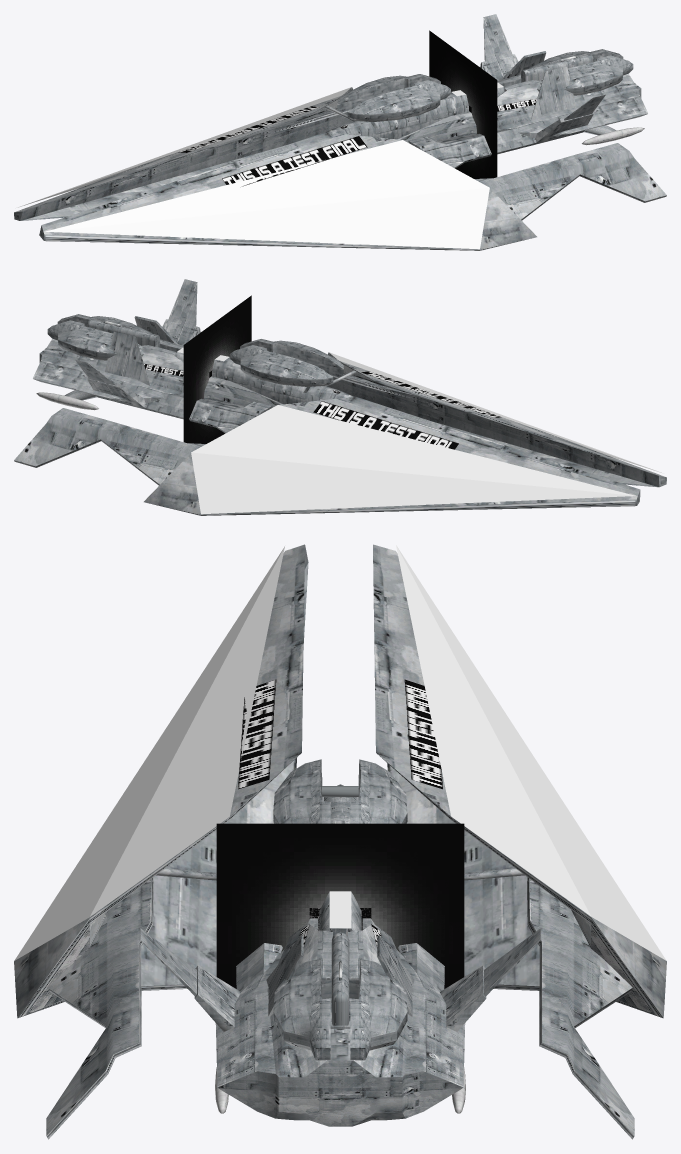
The model's file is OriginalTE.obj.
3 renders of one model, top to bottom at view 1: azimuth 30°, elevation 25°; view 2: azimuth 150°, elevation 25°; view 3: azimuth 270°, elevation 25°, orthographic. The views are drawn at different scales.
Parts seen in each view (by area): view 1: DECAL010.010, T_FIGHT_WING_T0, T_FIGHT_HULL_T0, PROF_FIGHTER0, MESH010, LFRED010.004, NAMEDECAL010.004, LFGREEN010.004, DECAL020.007; view 2: DECAL020.007, T_FIGHT_WING_T0, T_FIGHT_HULL_T0, PROF_FIGHTER0, LFGREEN010.004, MESH010, NAMEDECAL010.004, DECAL010.010, LFRED010.004; view 3: T_FIGHT_WING_T0, T_FIGHT_HULL_T0, DECAL020.007, DECAL010.010, LFGREEN010.004, LFRED010.004, PROF_FIGHTER0, MESH010, NAMEDECAL010.004, DECAL030.007.
Boxes of the visible parts, x1,y1,x2,y2 form: DECAL010.010: (45,140,489,249); T_FIGHT_WING_T0: (14,66,666,250); T_FIGHT_HULL_T0: (326,49,647,142); PROF_FIGHTER0: (408,14,644,168); MESH010: (337,74,450,121); LFRED010.004: (430,40,497,171); NAMEDECAL010.004: (178,106,367,186); LFGREEN010.004: (429,30,497,178); DECAL020.007: (18,87,351,207); DECAL020.007: (191,405,635,514); T_FIGHT_WING_T0: (14,331,666,515); T_FIGHT_HULL_T0: (33,314,353,407); PROF_FIGHTER0: (36,279,272,433); LFGREEN010.004: (183,295,251,443); MESH010: (230,339,343,386); NAMEDECAL010.004: (313,371,501,449); DECAL010.010: (329,352,661,472); LFRED010.004: (210,296,251,440); T_FIGHT_WING_T0: (14,544,666,1139); T_FIGHT_HULL_T0: (215,784,465,1126); DECAL020.007: (396,545,666,960); DECAL010.010: (14,546,284,960); LFGREEN010.004: (216,823,464,988); LFRED010.004: (216,823,464,988); PROF_FIGHTER0: (140,928,540,1113); MESH010: (273,759,407,823); NAMEDECAL010.004: (238,679,442,789); DECAL030.007: (329,891,351,928).
Size of the model in its own units: 122 by 25.22 by 63.2.
Materials: 18 (18 with a texture image).
